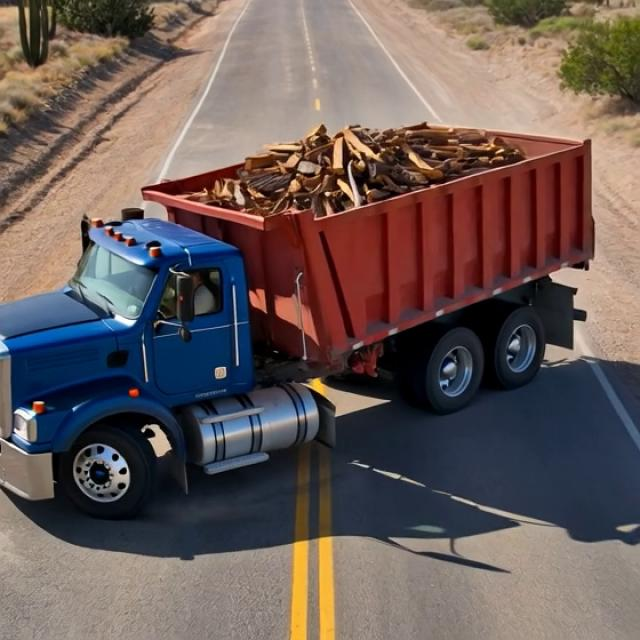trailer: (136, 116, 601, 225)
truck: (0, 93, 630, 515)
